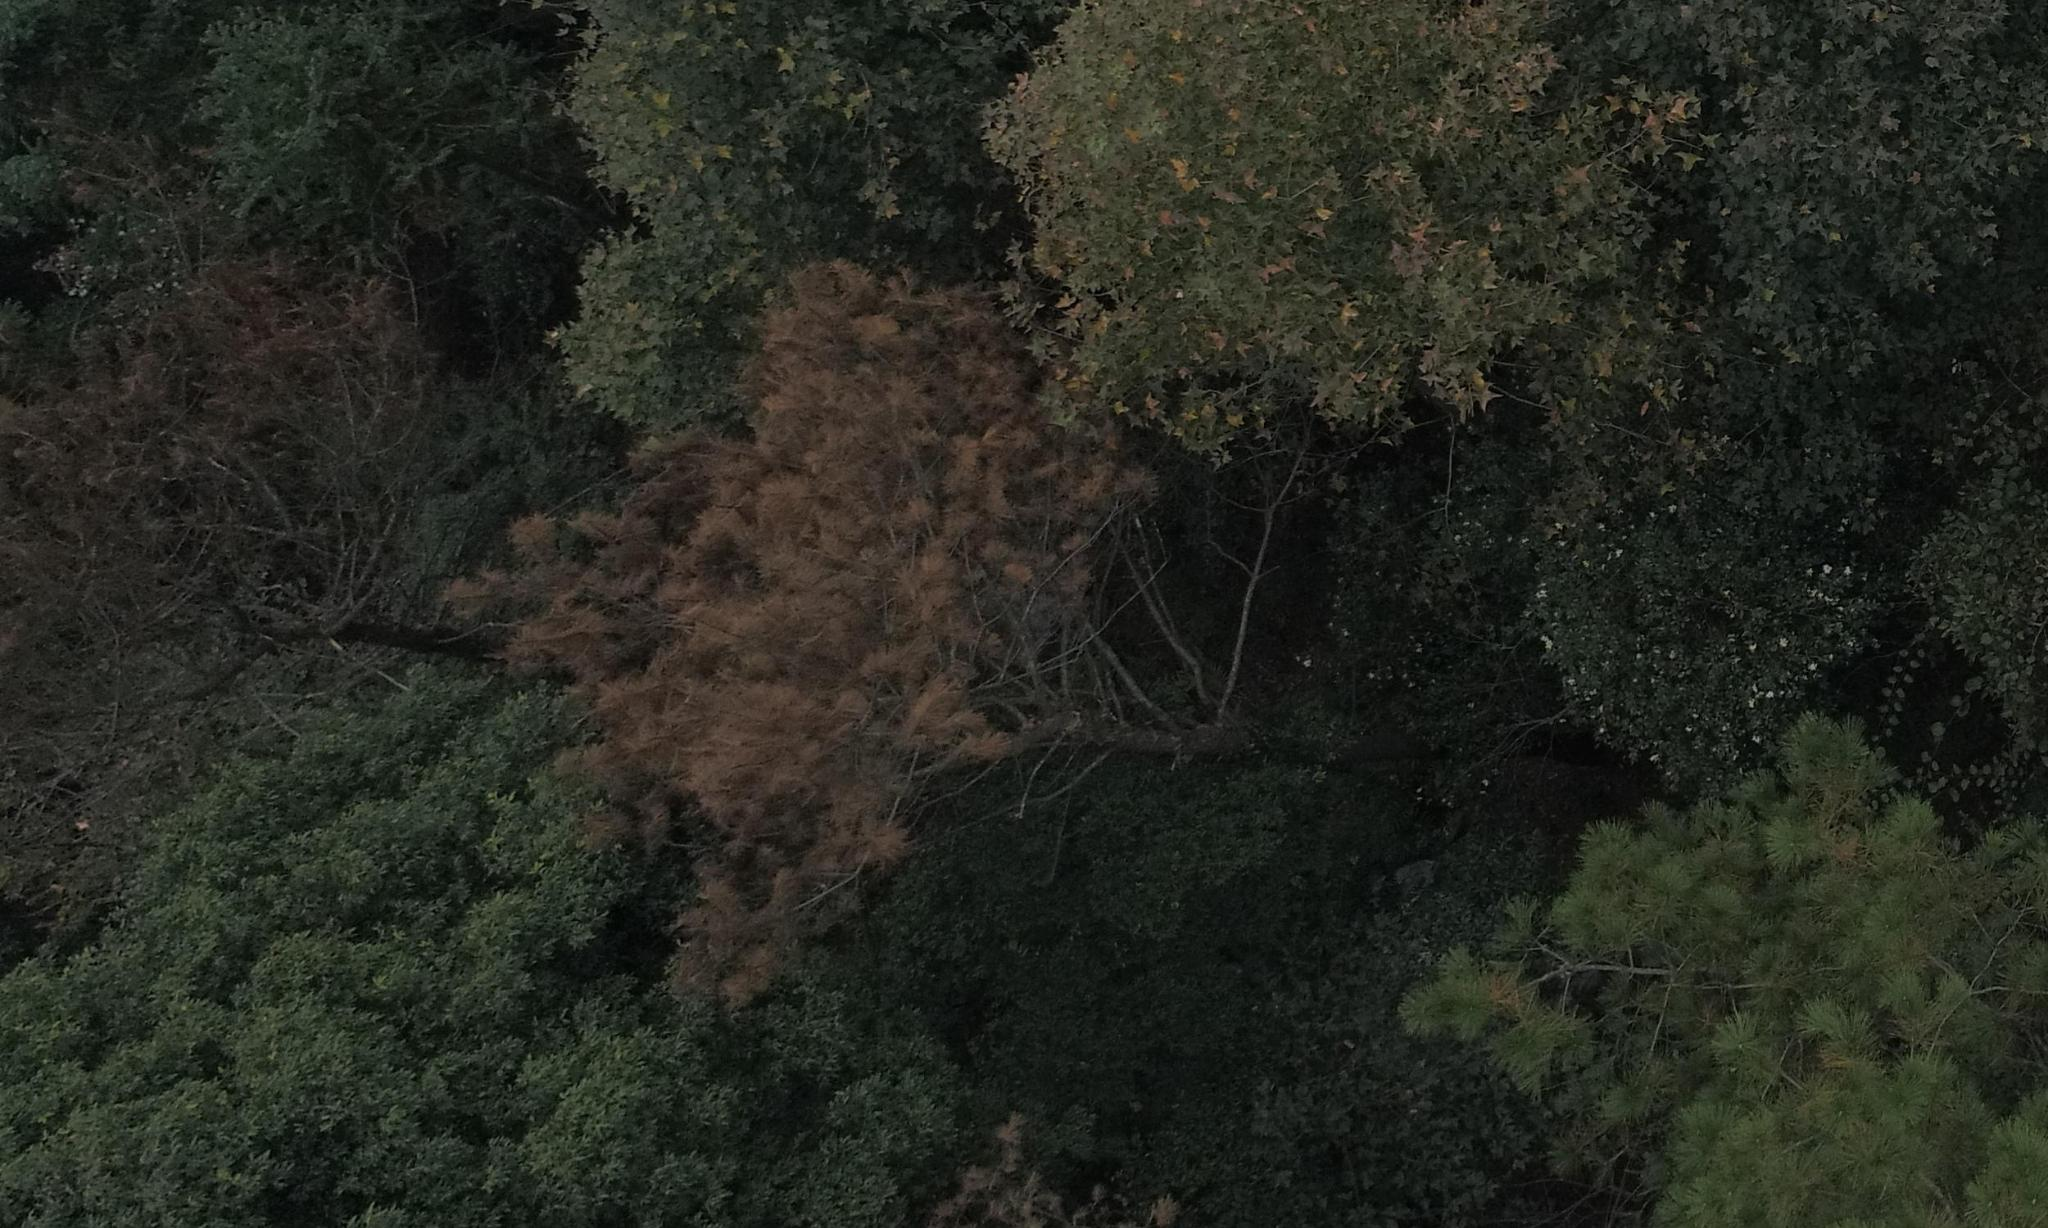heavy: (477, 256, 1123, 1012), (35, 262, 415, 689)
